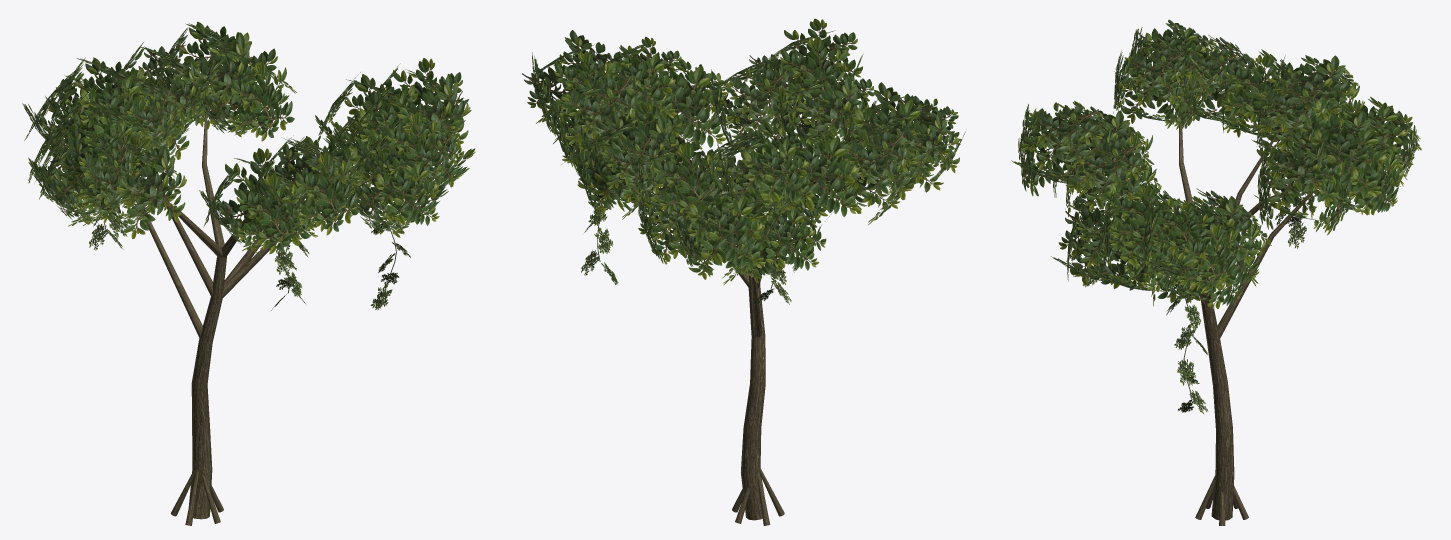
File: background_tree_03.glb
3 renders of one model, left to right at view 1: azimuth 30°, elevation 25°; view 2: azimuth 150°, elevation 25°; view 3: azimuth 270°, elevation 25°, orthographic.
Visible parts, largest first — view 1: background_tree_03; view 2: background_tree_03; view 3: background_tree_03.
Part boxes in pixels (left/top/right/bottom): background_tree_03: left=22, top=21, right=475, bottom=525; background_tree_03: left=522, top=18, right=965, bottom=525; background_tree_03: left=1011, top=19, right=1421, bottom=525.
Size of the model in its own units: 10.7 by 10.05 by 9.17.
Materials: 2 (2 with a texture image).
